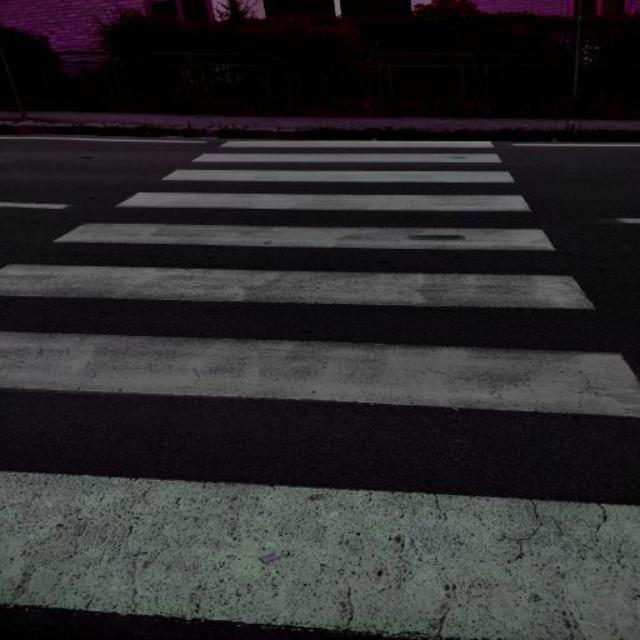sidewalk: (0, 129, 636, 640)
